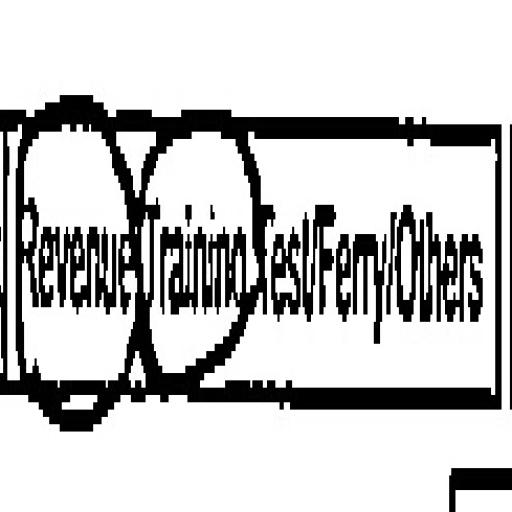check: (138, 52, 254, 461), (20, 54, 136, 456)
